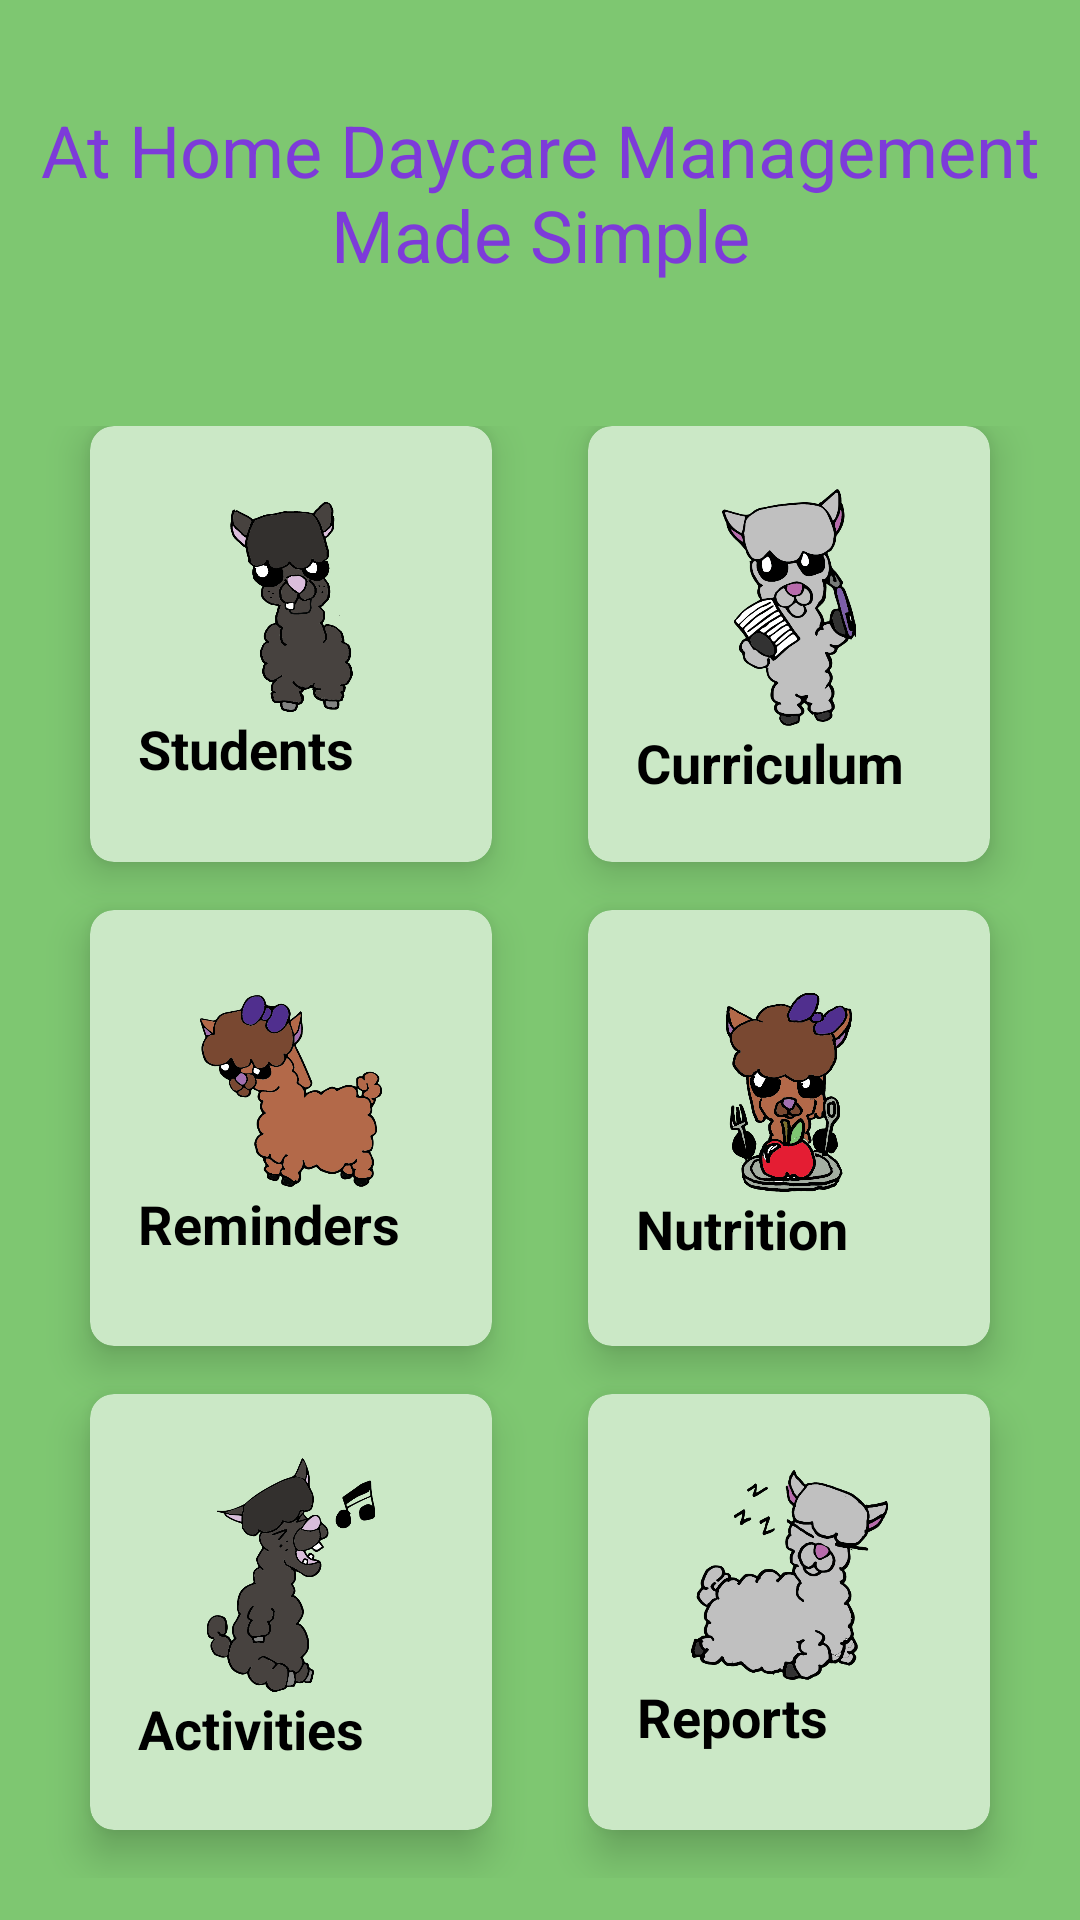

Icon bounding boxes for this 1080px x 1920px phone screenshot, format (x1, y1, x2, y2):
note: (722, 489, 856, 726)
sleeping: (691, 1470, 888, 1680)
